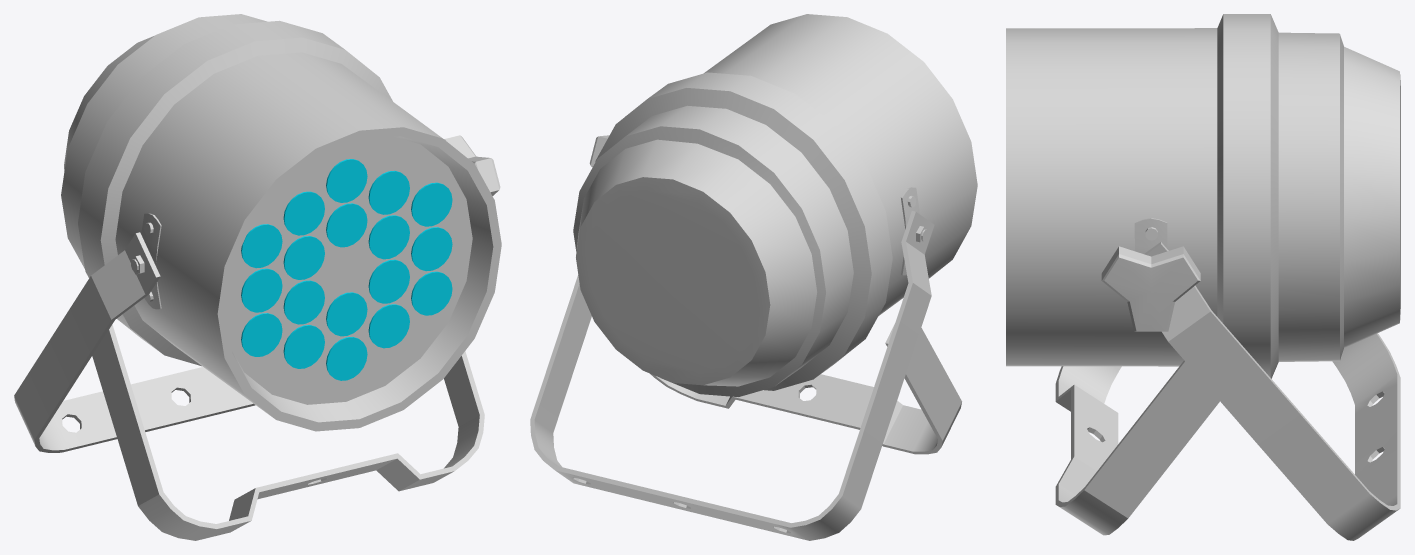
The model's file is Par_Light_Tarantula_Standing.fbx.
The picture shows the model from 3 angles, left to right: view 1: azimuth 30°, elevation 25°; view 2: azimuth 150°, elevation 25°; view 3: azimuth 270°, elevation 25°; orthographic projection. The views are drawn at different scales.
Parts seen in each view (by area): view 1: Par_Light_Tarantula_Base, Par_Light_Tarantula_Standing, Par_Light_Tarantula_LightBulb; view 2: Par_Light_Tarantula_Base, Par_Light_Tarantula_Standing; view 3: Par_Light_Tarantula_Base, Par_Light_Tarantula_Standing.
Boxes of the visible parts, x1,y1,x2,y2 form: Par_Light_Tarantula_Base: (61,14,501,431); Par_Light_Tarantula_Standing: (14,232,484,540); Par_Light_Tarantula_LightBulb: (241,159,452,380); Par_Light_Tarantula_Base: (573,14,977,396); Par_Light_Tarantula_Standing: (530,211,961,540); Par_Light_Tarantula_Base: (1006,14,1400,378); Par_Light_Tarantula_Standing: (1055,242,1400,540).
Bounding box in the file's own units: 25.37 × 28.86 × 23.27.
